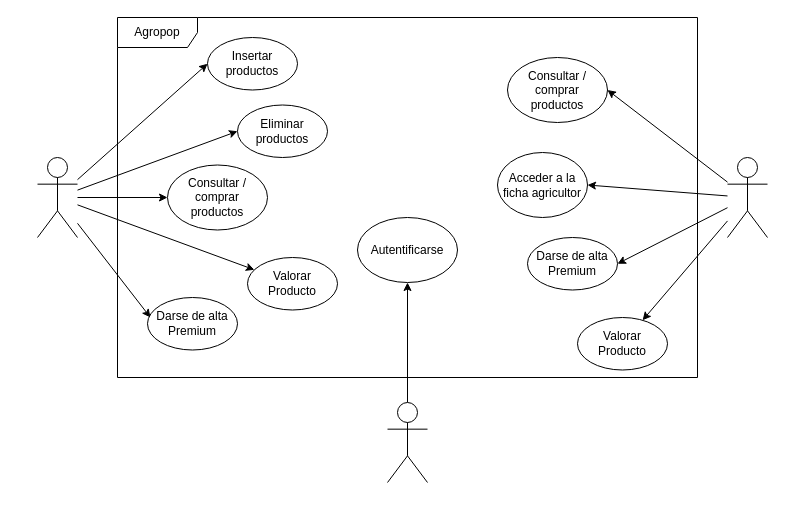
This 800x521 diagram has some shape labels left out. The box of each missing label's shape, as (x1, y1, x2, y2) in pixels:
Actor Agricultor: (36, 156, 78, 238)
Actor usuario: (726, 156, 768, 238)
Actor usuario no identificado: (386, 402, 428, 482)
